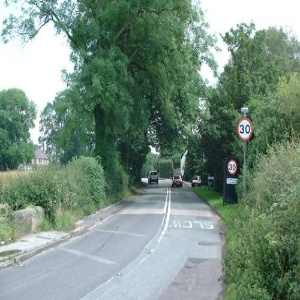30 speed: (237, 118, 253, 141), (227, 159, 238, 176)
